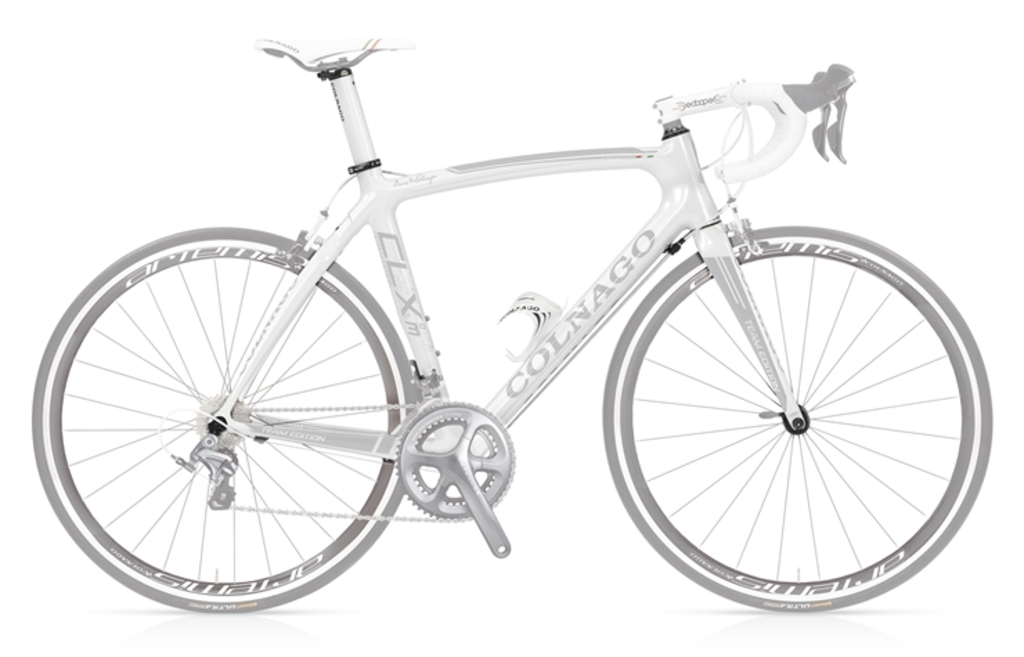Bike_toward: (52, 44, 1014, 617)
